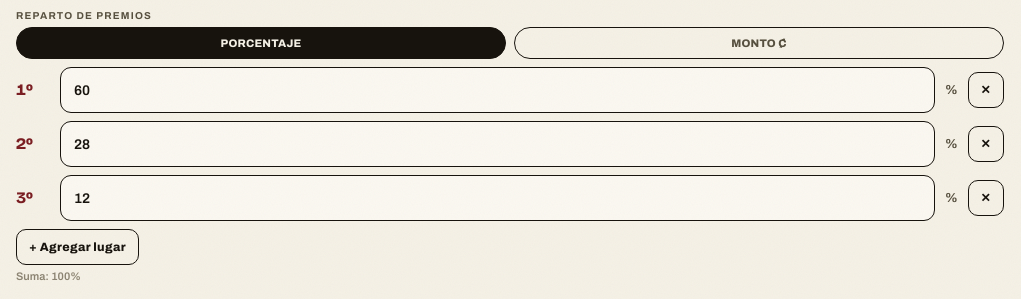
it: PrizeDistributionEditor — interactions › warns "Debe sumar 100%" when the percentages do not sum to ~100
Note: Drop 3rd place from 12 → 5 so the total is 93%.
Replace the text in the field named "Porcentaje 3º lugar" with "5" at (497, 198), box [60,175,935,221]
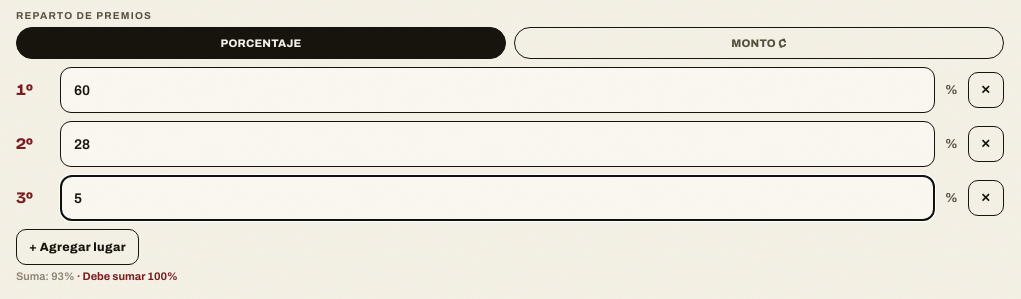
Expected: the text with test id "dist-warning" shows "Debe sumar 100%", [77,270,178,282]
Expected: the element with test id "dist-sum" shows "Suma: 93%", [16,270,178,282]
